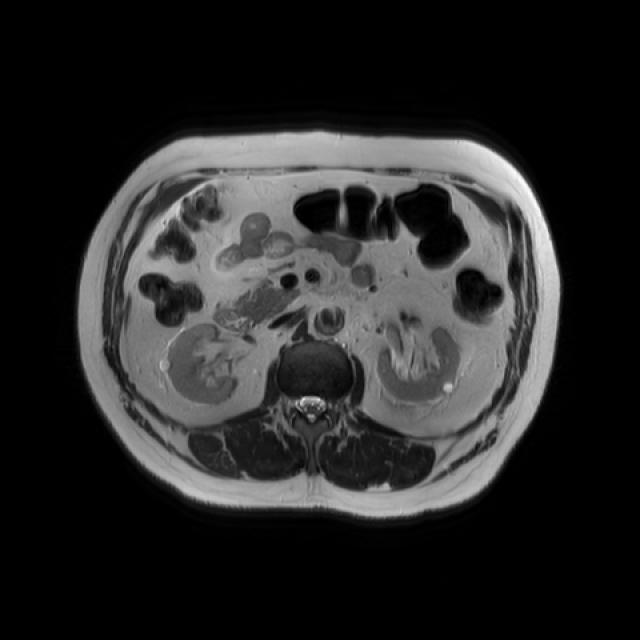sag: (160, 323, 239, 406)
sol: (374, 325, 460, 406)
